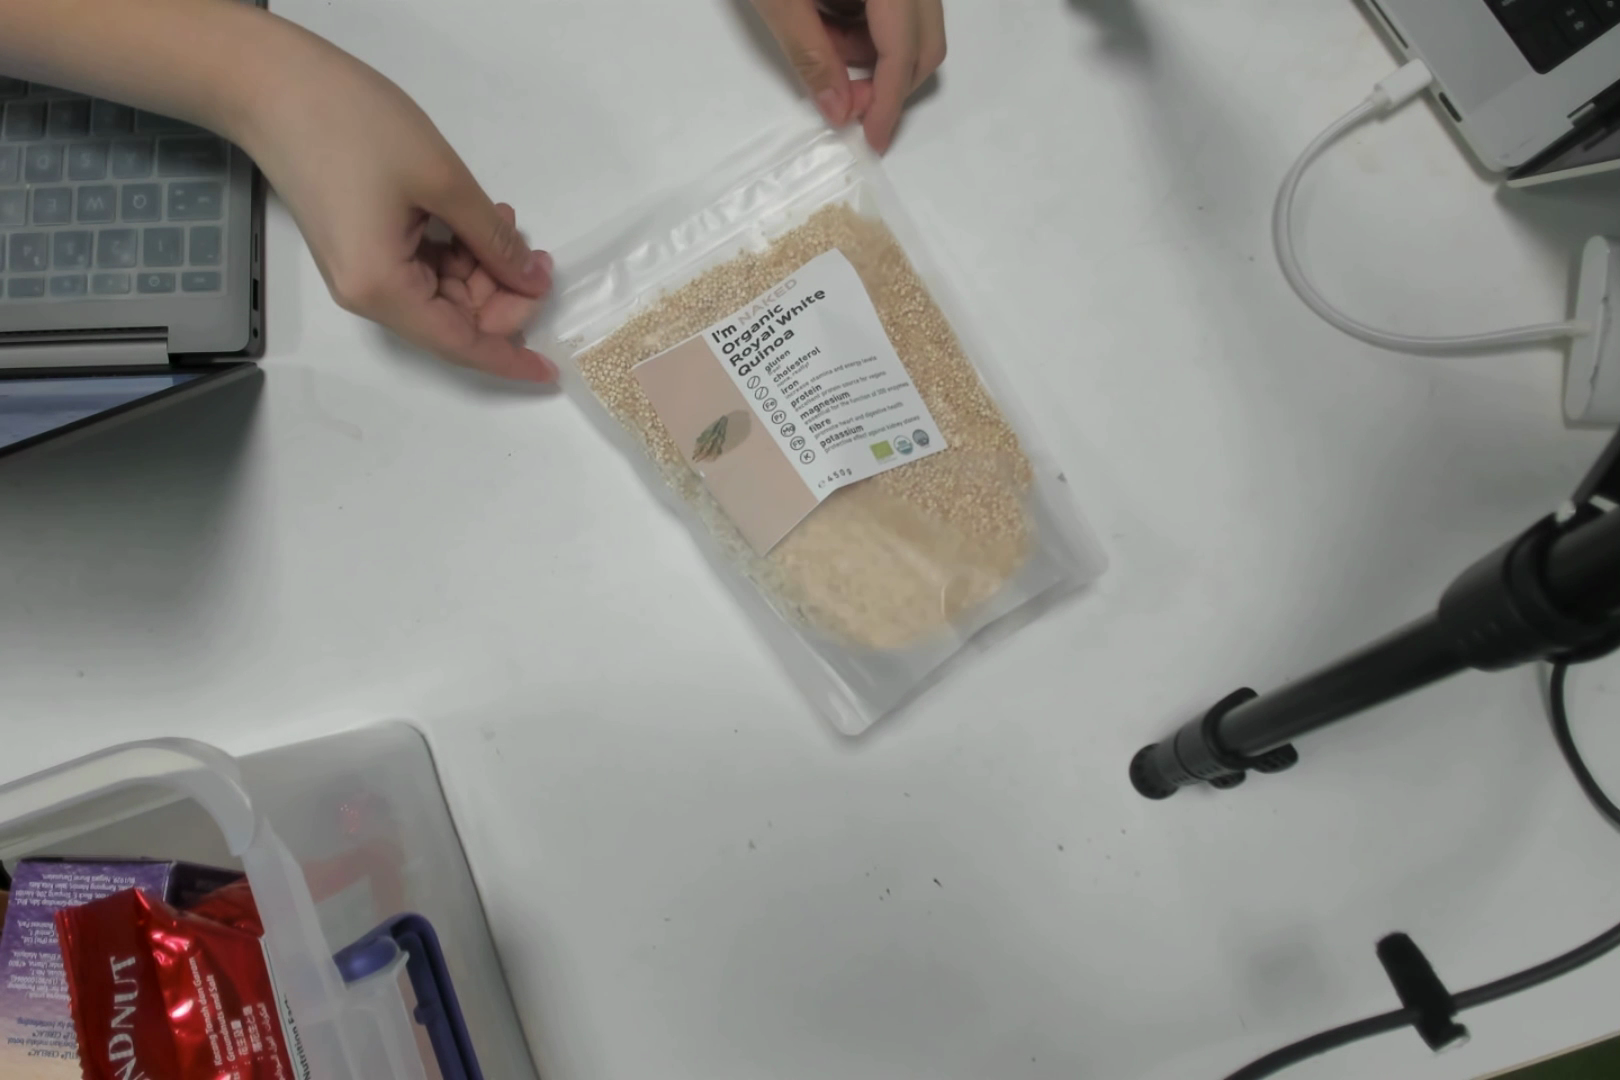Rice(brown-others)_400-499g_Halal_NonHealthy: (647, 160, 1041, 685)
